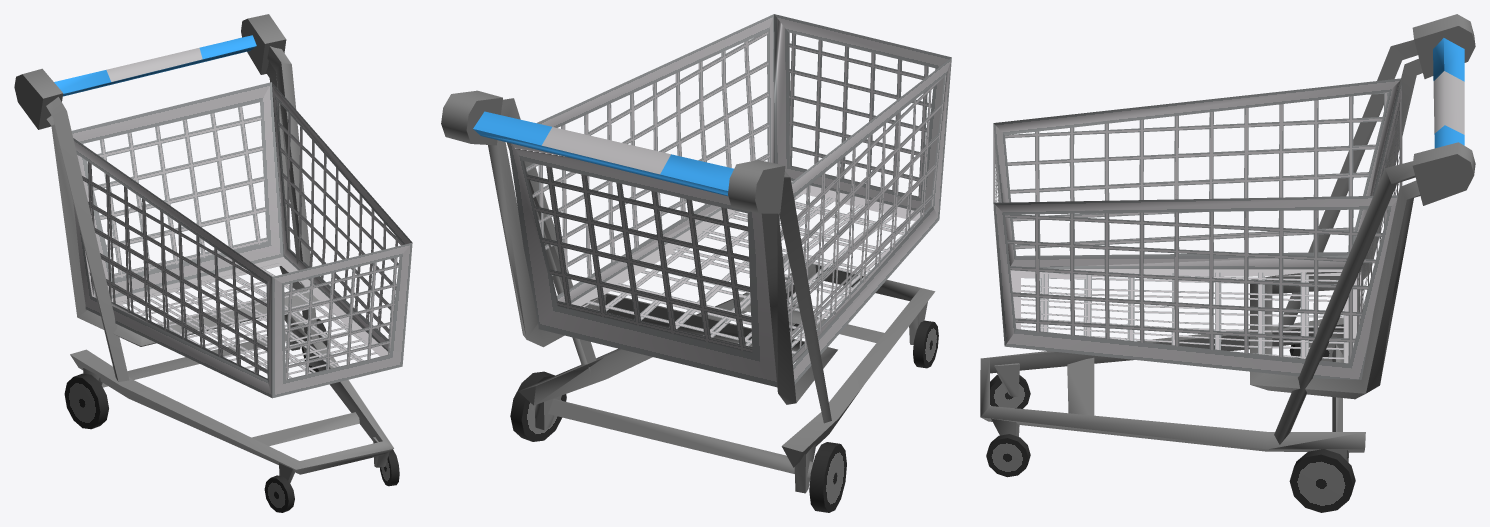
File: ShoppingTrolley.obj
The picture shows the model from 3 angles, left to right: view 1: azimuth 30°, elevation 25°; view 2: azimuth 150°, elevation 25°; view 3: azimuth 270°, elevation 25°; orthographic projection. The views are drawn at different scales.
Visible parts, largest first — view 1: STrolleyGrid, STrolleyCol; view 2: STrolleyGrid, STrolleyCol; view 3: STrolleyGrid, STrolleyCol.
Part boxes in pixels (left/top/right/bottom): STrolleyGrid: left=71, top=82, right=412, bottom=398; STrolleyCol: left=14, top=14, right=399, bottom=512; STrolleyGrid: left=508, top=14, right=951, bottom=387; STrolleyCol: left=441, top=90, right=938, bottom=512; STrolleyGrid: left=993, top=78, right=1402, bottom=379; STrolleyCol: left=980, top=14, right=1475, bottom=512.
Size of the model in its own units: 0.6475 by 0.7722 by 0.9559.
2 materials, 2 textured.
